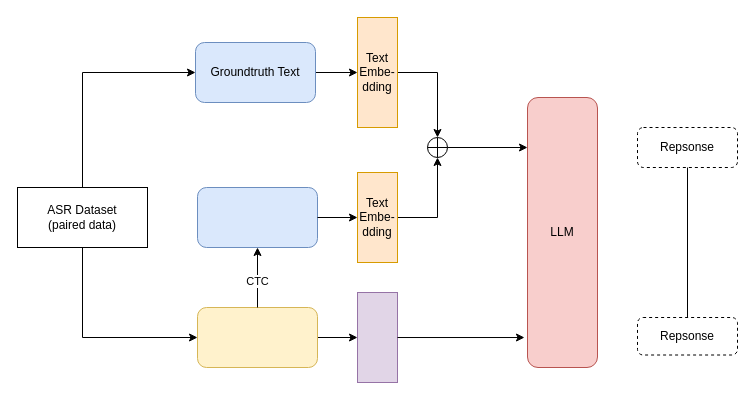
The diagram is 755 pixels wide and 400 high, and some of its shapes have lost their labels. The shapes that lost their labels are listed below. From the top down, each one's box as (x1, y1, x2, y2) in pixels, then its label:
(196, 186, 318, 248): Hypothesis Text
(196, 306, 318, 368): Audio Encoder
(356, 292, 398, 382): Audio Embe-dding
